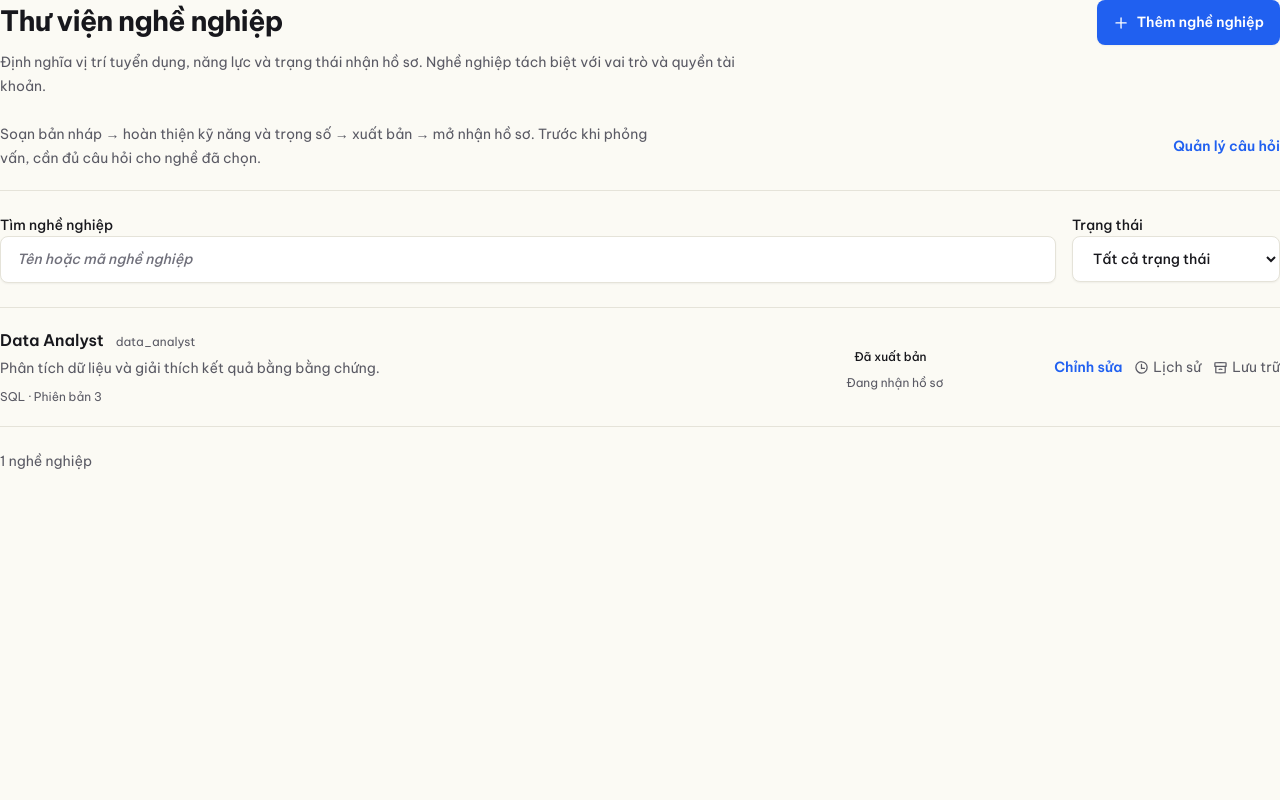
confirms archive and shows readable historical snapshots
Expected: the heading "Data Analyst" is shown, [0,328,104,352]
Click the button with aria-label "Lịch sử Data Analyst".
click(1168, 367)  # box [1134,356,1201,378]
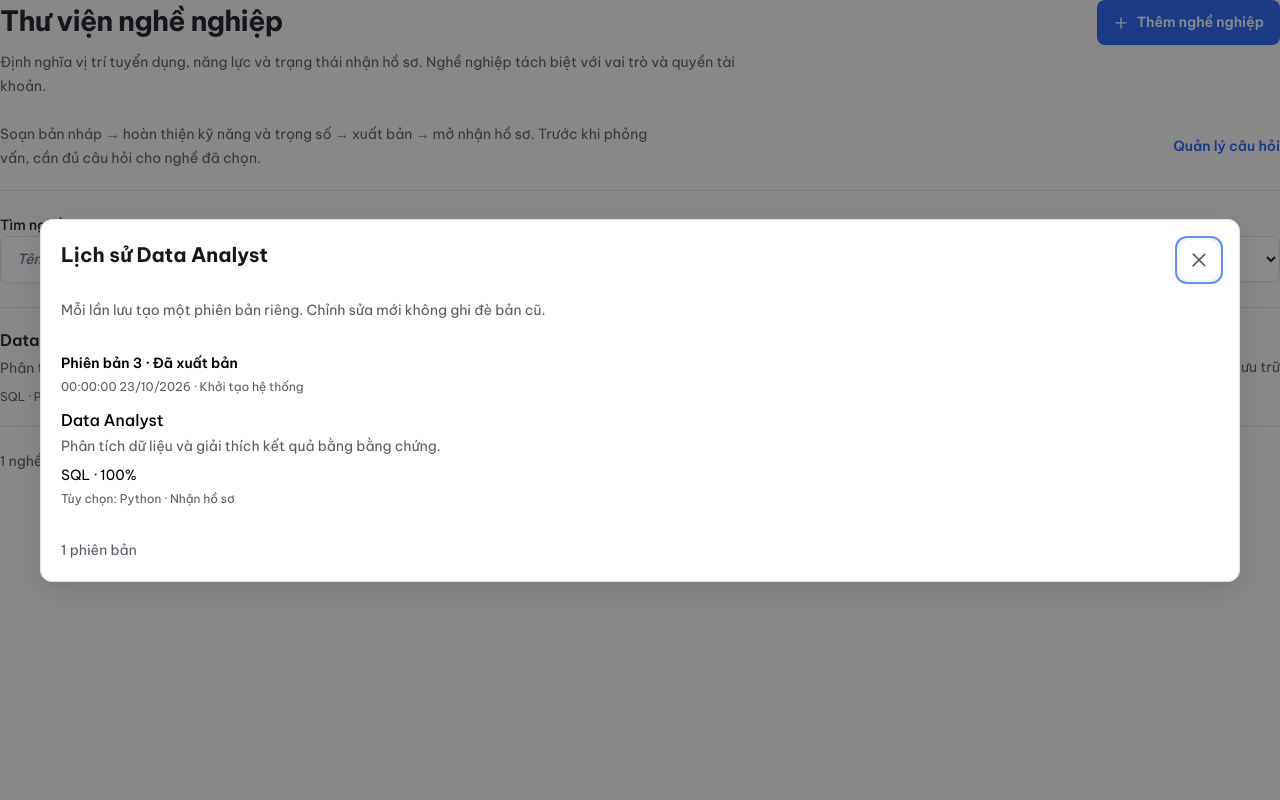
Expected: the text "SQL · 100%" is shown, [61,466,137,484]
Click the button named "Đóng".
click(1199, 260)  # box [1179,240,1219,280]
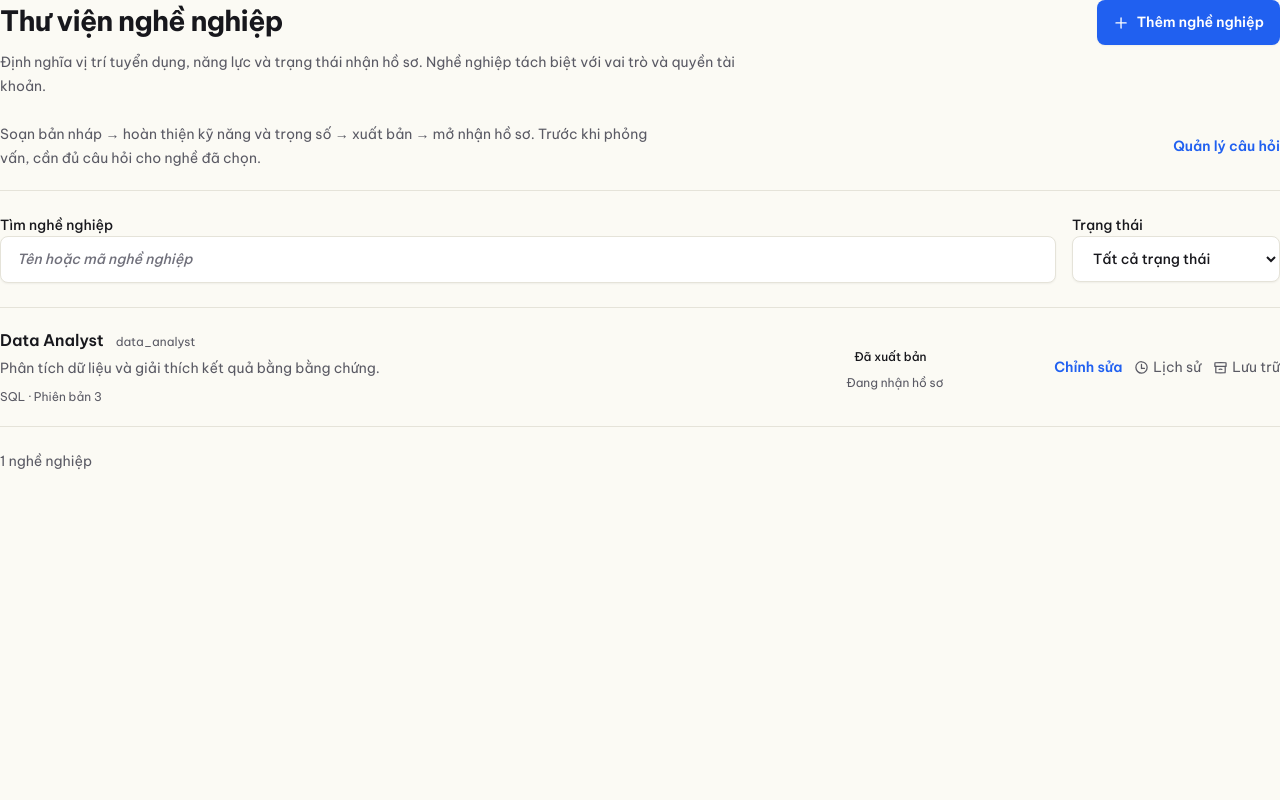
Click the button with aria-label "Lưu trữ Data Analyst".
click(1247, 367)  # box [1213,356,1279,378]
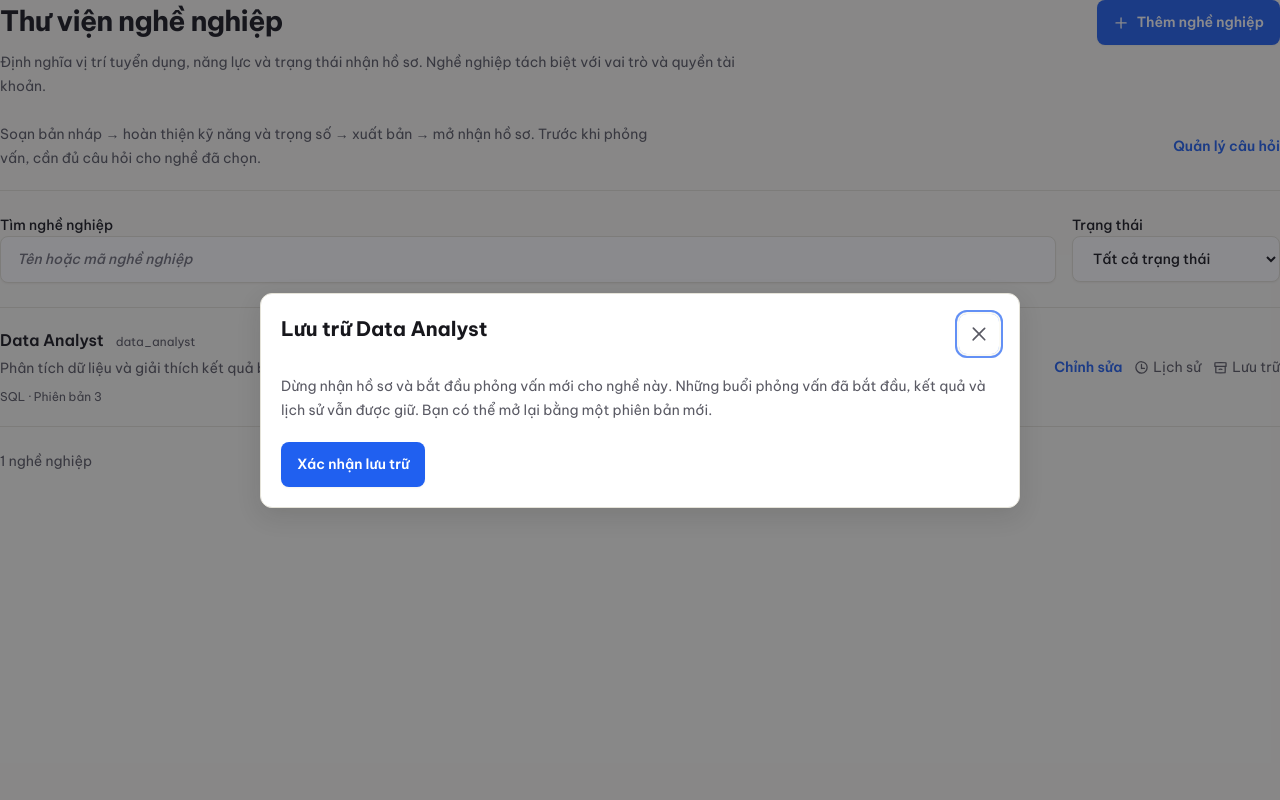
Click the button "Xác nhận lưu trữ".
click(353, 464)  # box [281,442,425,486]
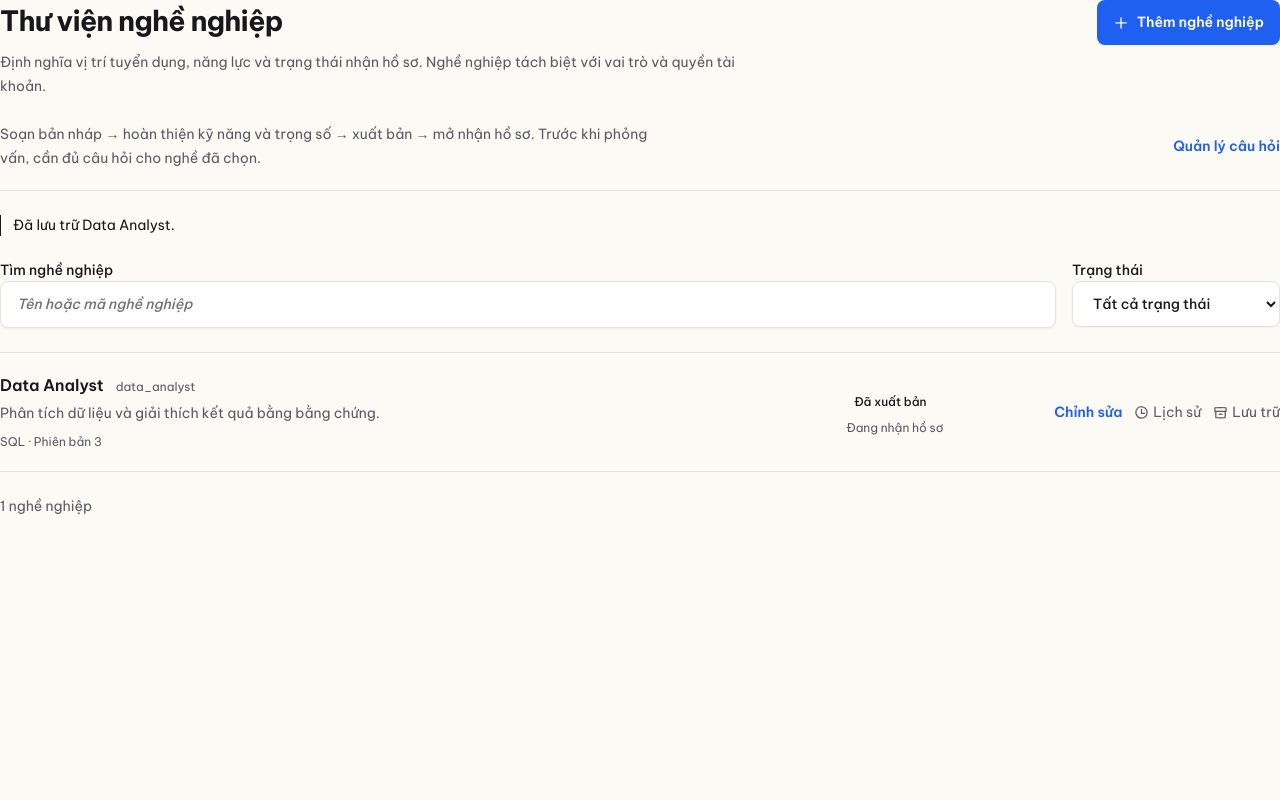
Expected: the message shows "Đã lưu trữ", [13,216,175,234]
